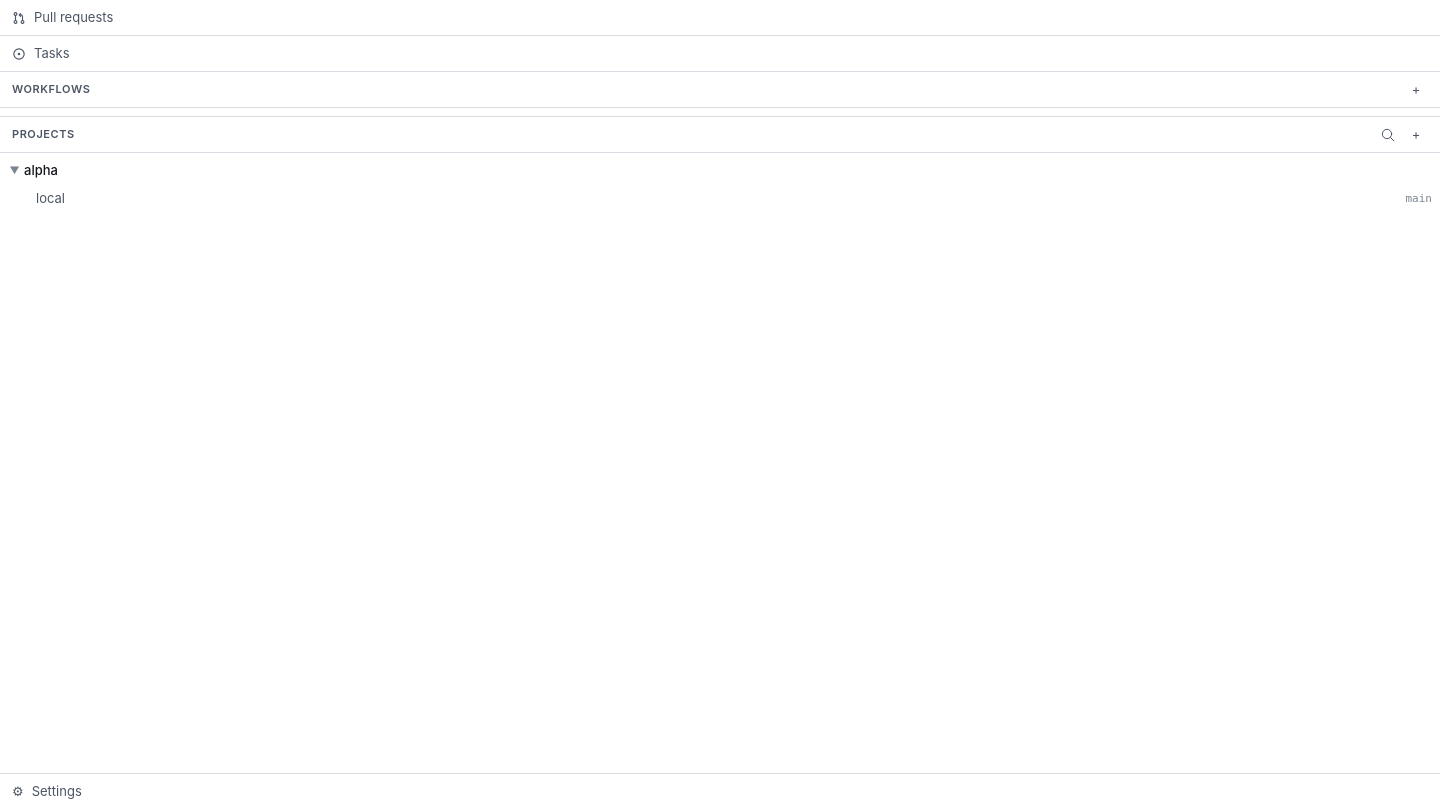
Test case: Sidebar › keeps a project added through the dialog visible with a non-matching filter
Check: the list item "alpha" is shown, box [0, 157, 1439, 213]
Click the button named "Search projects". click: [1388, 134]
box: [1376, 122, 1400, 146]
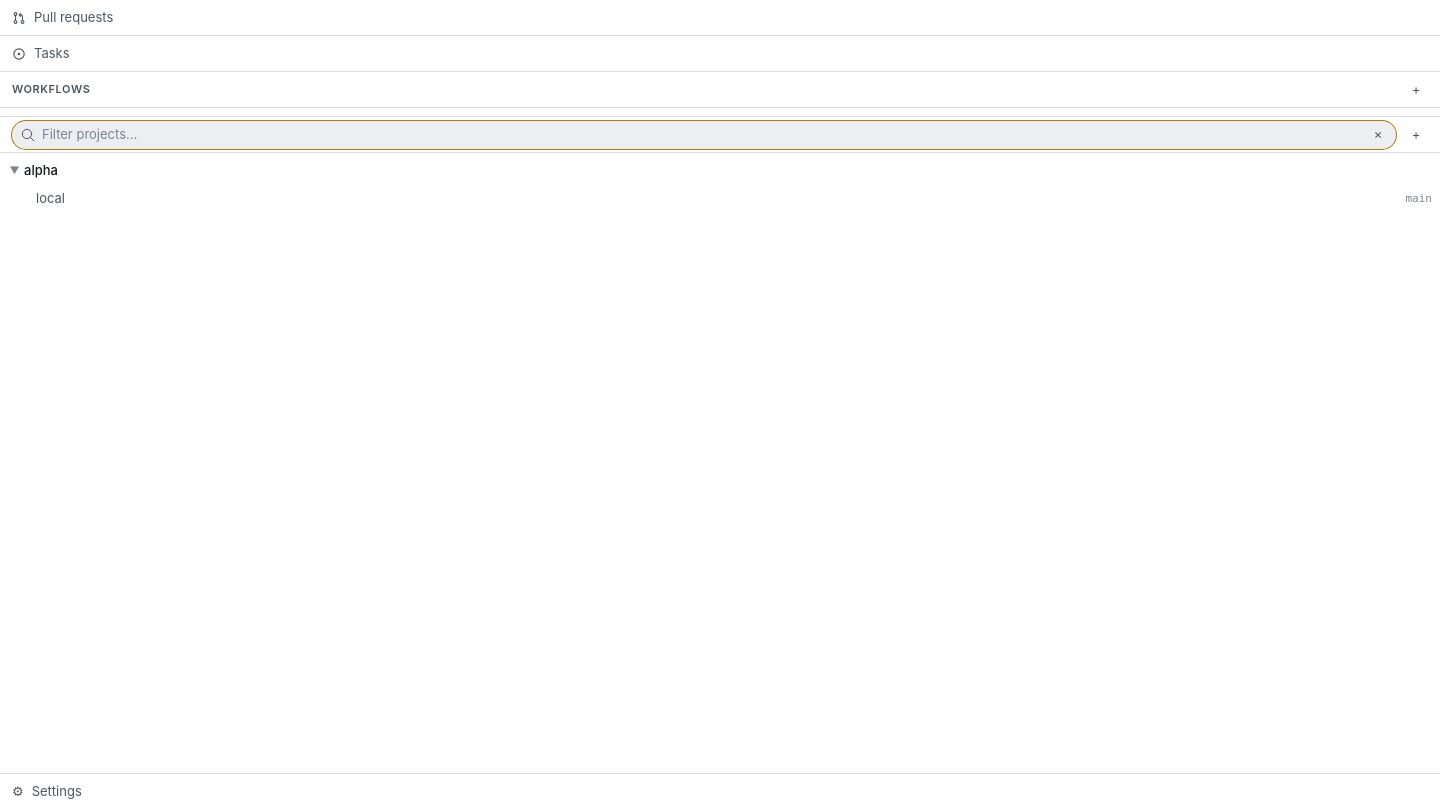
Type "missing" into the field labelled "Filter projects". click: [702, 135]
box: [42, 125, 1362, 144]
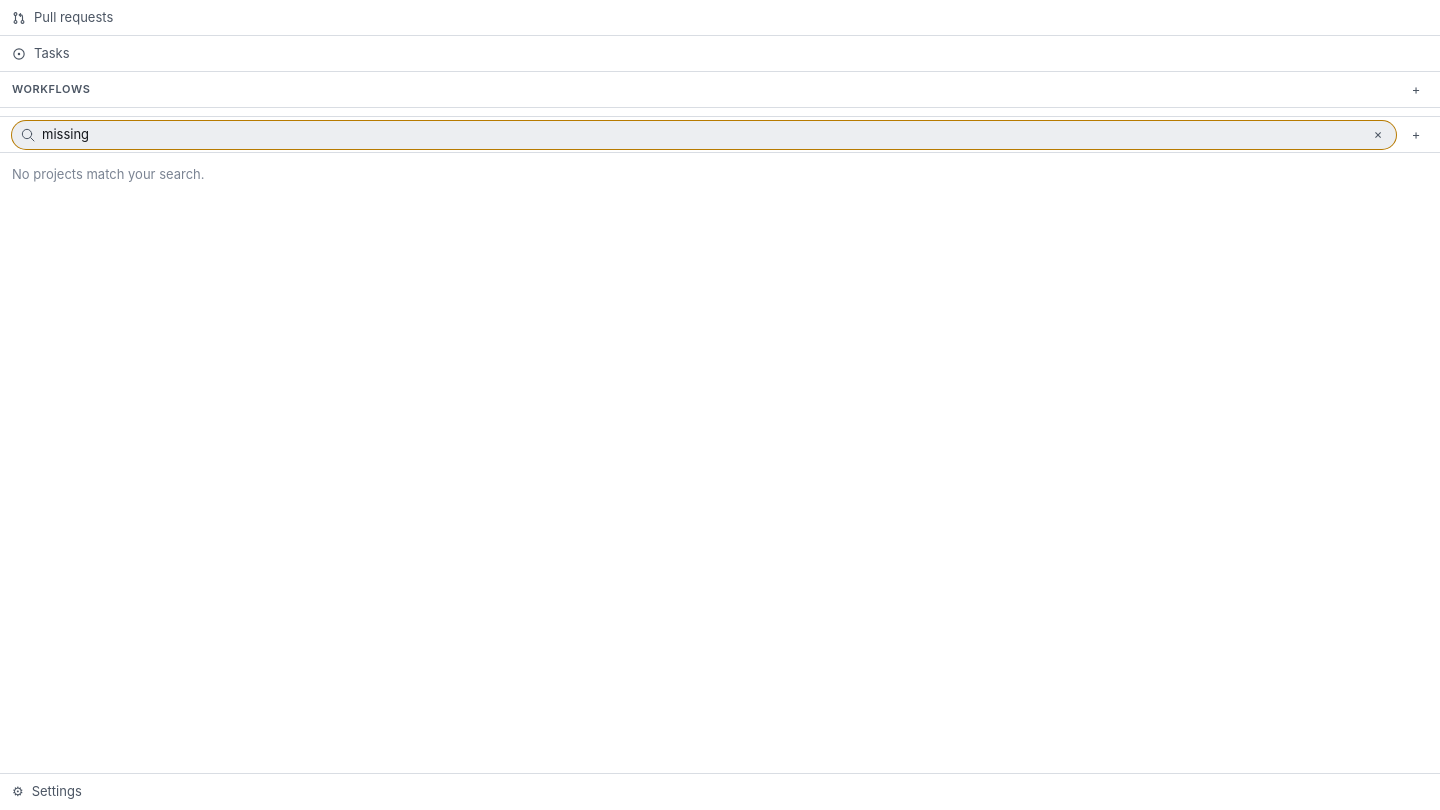
Click the button named "Add project". click: [1416, 134]
box: [1404, 122, 1428, 146]
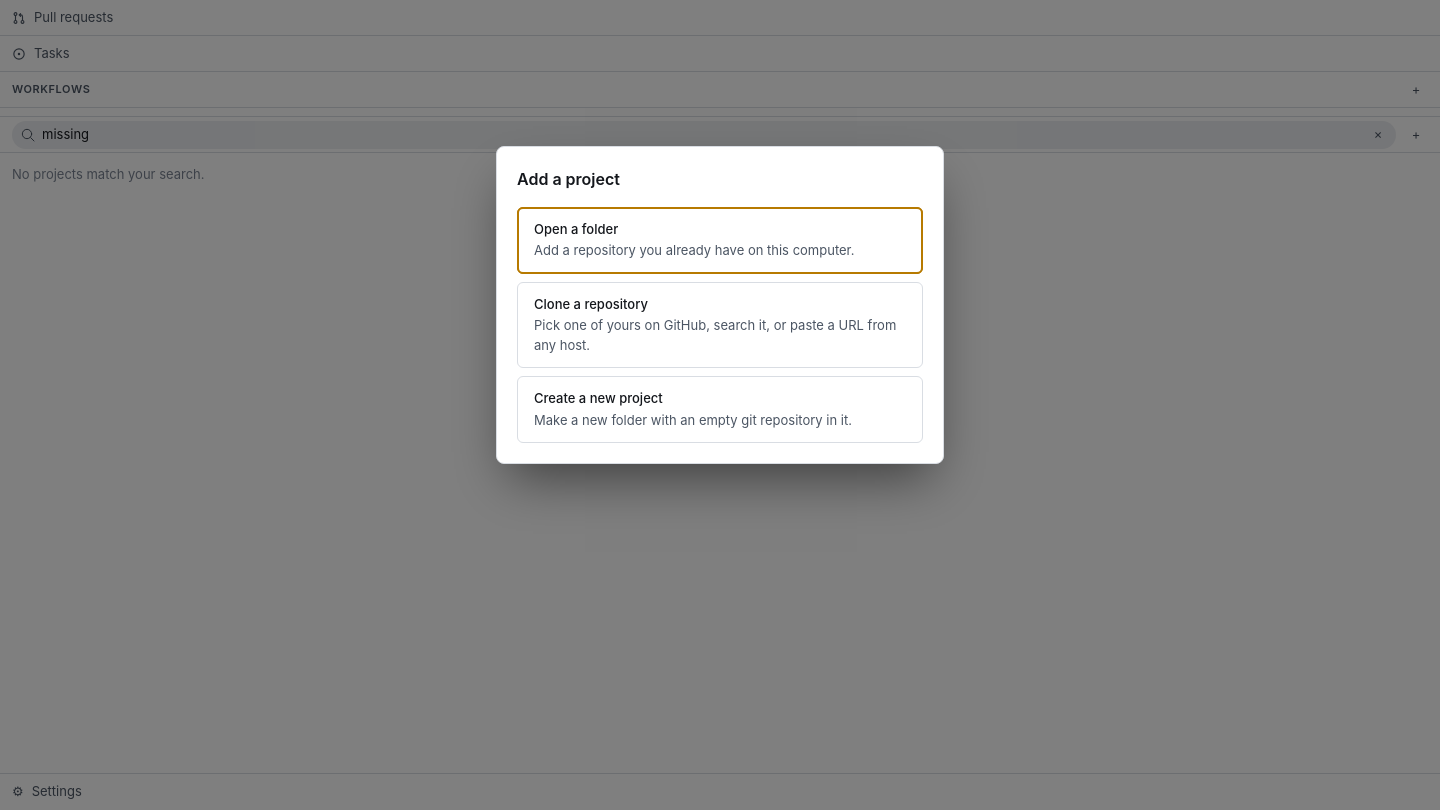
Click the button "Open a folder". click: [720, 240]
box: [517, 207, 923, 274]
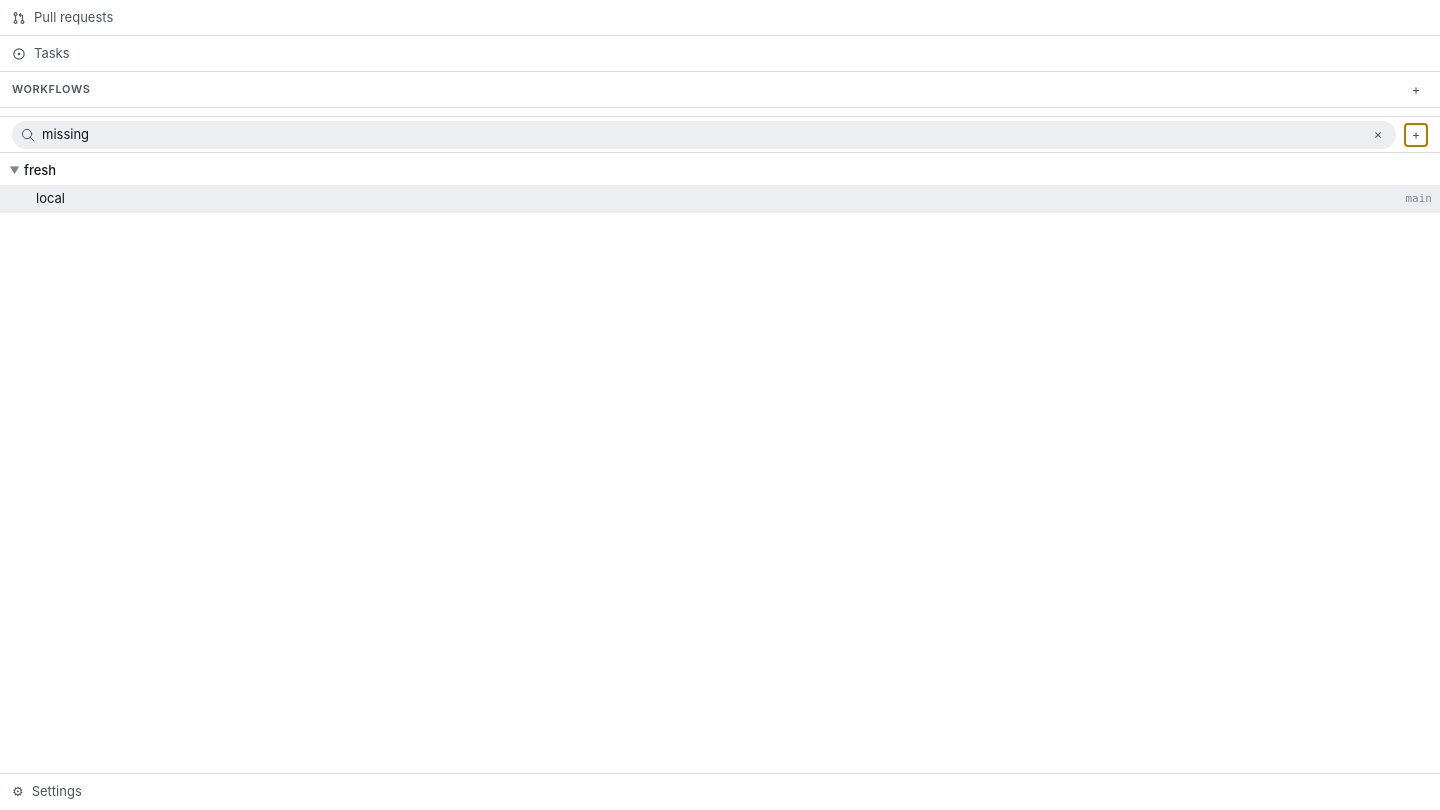
Check: the button "alpha" is not shown
Check: the list item "fresh" is shown, box [0, 157, 1439, 213]
Check: the text "No projects match your search." is gone
